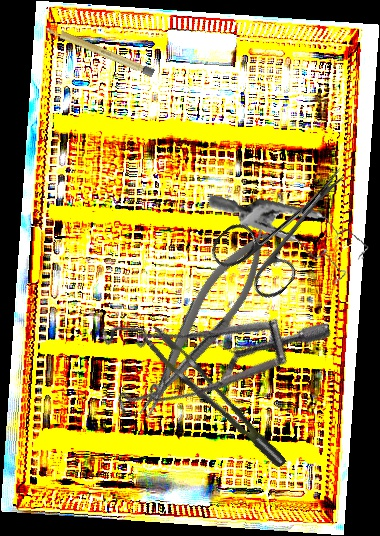Iris Scissors: (205, 140, 372, 310)
Needle Holder: (119, 220, 287, 426)
Scalpel Handle: (44, 23, 156, 78)
Speculum: (71, 216, 337, 469), (207, 172, 374, 301)
Tissue Forceps: (141, 313, 287, 485)
